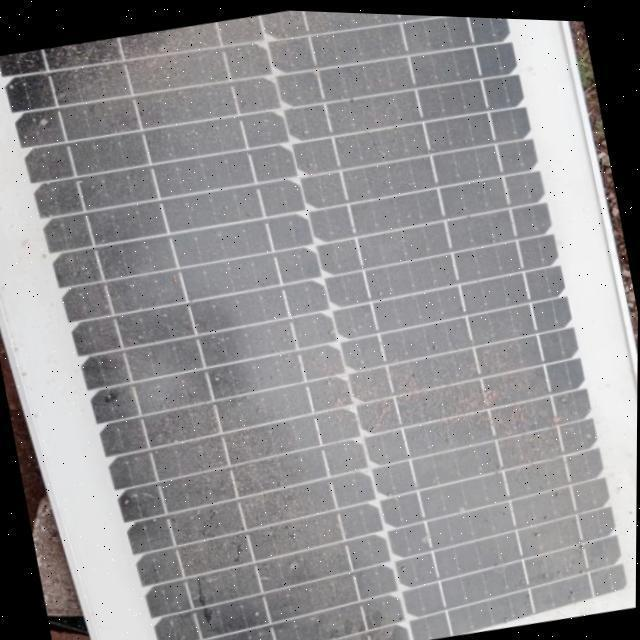Surface Contaminant: (27, 8, 637, 640)
